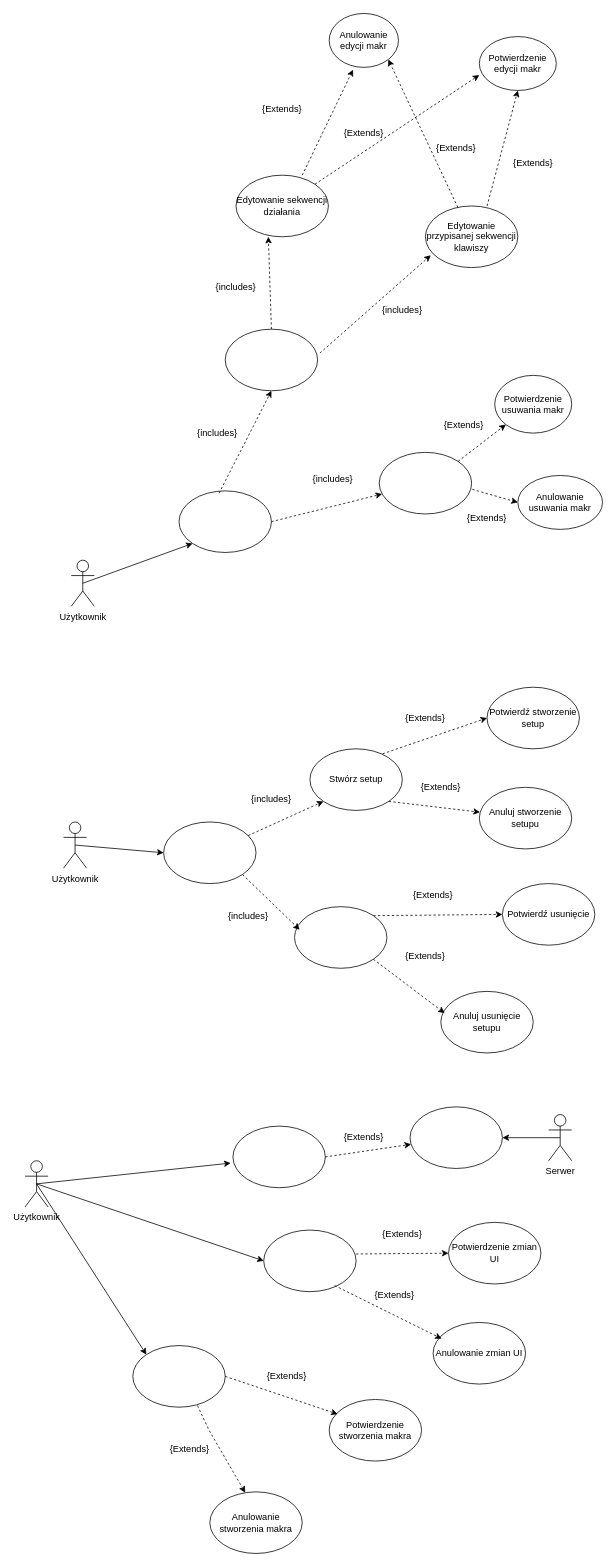
Some shapes in this 616 by 1567 pixel diagram are drawn without their labels. Here are the shapes that lost their labels. From the top down, the box of each, then its label:
(224, 328, 318, 391): Edytowanie Makr
(378, 452, 472, 514): Usuwanie makr
(178, 490, 271, 552): Zobacz listę makr
(163, 821, 256, 884): Zobacz listę setup
(294, 906, 387, 968): Usuń setup
(232, 1125, 325, 1188): Wysłanie żądania do odpalenia makra
(409, 1106, 502, 1168): Potwierdzenie żądanie
(263, 1229, 356, 1292): Personalizacja UI
(132, 1345, 225, 1407): Tworzenie i programowanie makr
